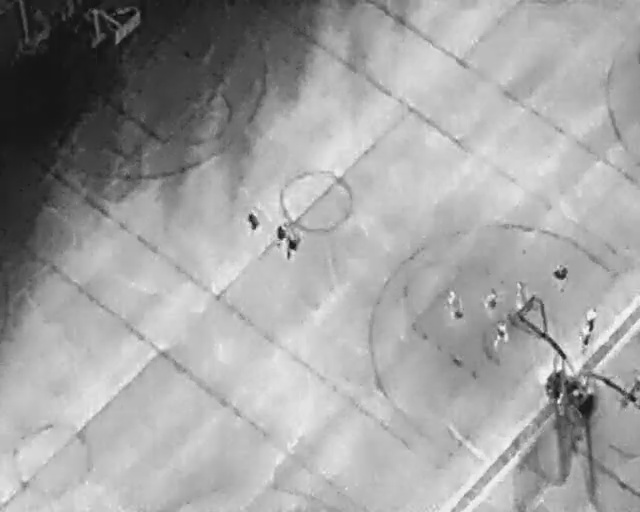Person: (552, 263, 568, 294), (447, 292, 464, 321), (495, 317, 507, 351), (247, 207, 258, 236), (486, 286, 497, 312), (580, 325, 590, 350), (276, 222, 285, 247), (288, 236, 297, 260), (588, 308, 596, 329)
